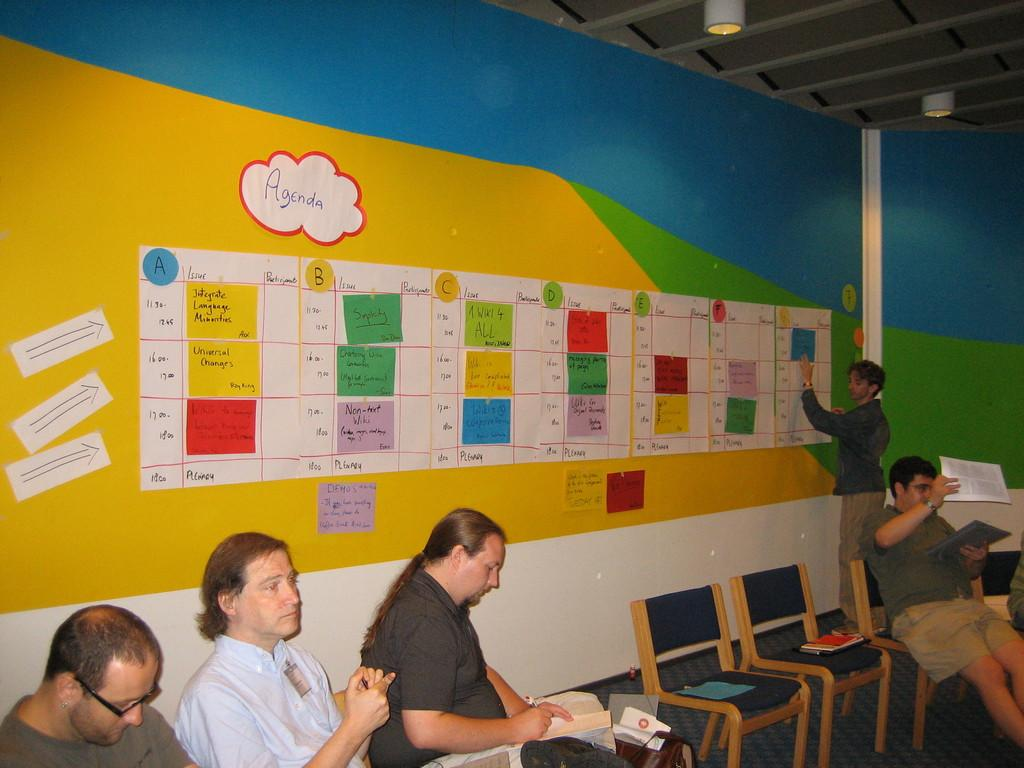Book: (924, 519, 1011, 562), (799, 632, 867, 655)
Chair: (629, 582, 811, 767), (728, 562, 891, 767), (849, 556, 983, 750)
